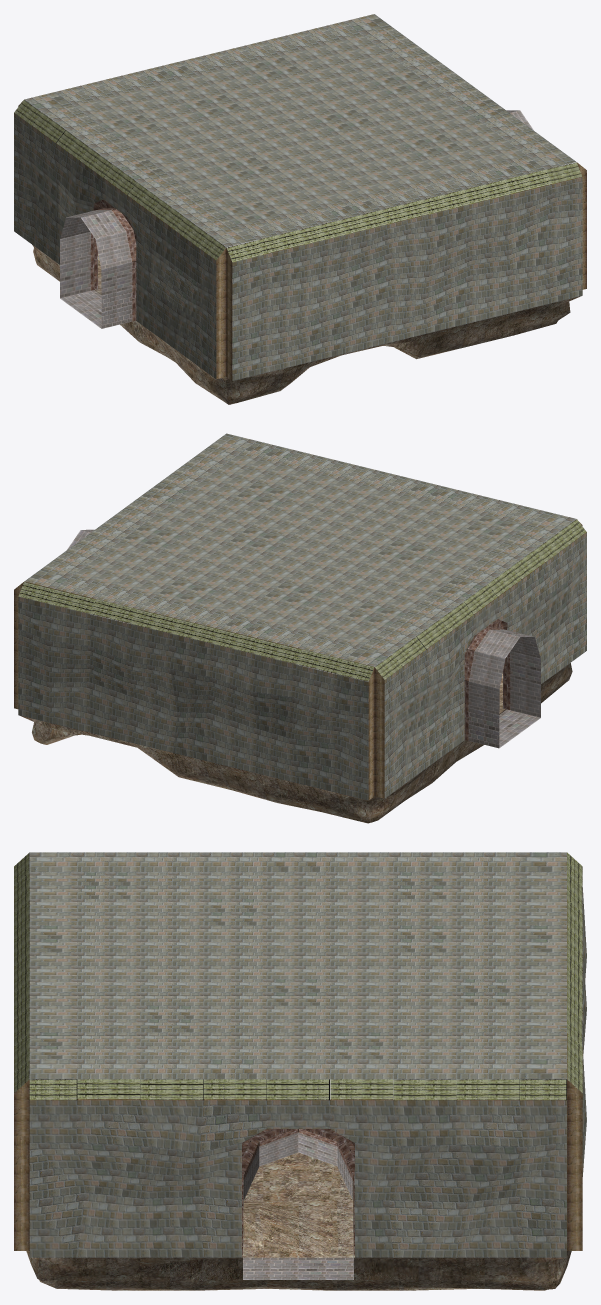
File: map50MEWL.fbx
3 views of the same model, one above another, from view 1: azimuth 30°, elevation 25°; view 2: azimuth 150°, elevation 25°; view 3: azimuth 270°, elevation 25° (orthographic). The views are drawn at different scales.
Parts seen in each view (by area): view 1: map50MEWL_Layer1_roof, map50MEWL_Layer1_far, map50MEWL_Layer1_right, map50MEWL_Layer2, map50MEWL_Layer1_floor3, map50MEWL_Layer3, map50MEWL_Layer6, map50MEWL_Layer5; view 2: map50MEWL_Layer1_roof, map50MEWL_Layer1_near, map50MEWL_Layer1_right, map50MEWL_Layer2, map50MEWL_Layer1_floor3, map50MEWL_Layer3, map50MEWL_Layer6, map50MEWL_Layer5; view 3: map50MEWL_Layer1_roof, map50MEWL_Layer1_right, map50MEWL_Layer1_floor3, map50MEWL_Layer2, map50MEWL_Layer6, map50MEWL_Layer3, map50MEWL_Layer5, map50MEWL_Layer1_near.
Part boxes in pixels (x1,y1,x2,y2): map50MEWL_Layer1_roof: (24,14,575,247); map50MEWL_Layer1_far: (232,177,582,380); map50MEWL_Layer1_right: (14,113,216,378); map50MEWL_Layer2: (14,99,582,262); map50MEWL_Layer1_floor3: (32,245,581,404); map50MEWL_Layer3: (60,110,533,328); map50MEWL_Layer6: (18,101,586,380); map50MEWL_Layer5: (90,199,136,321); map50MEWL_Layer1_roof: (24,433,575,666); map50MEWL_Layer1_near: (18,596,368,800); map50MEWL_Layer1_right: (384,532,586,798); map50MEWL_Layer2: (18,519,586,681); map50MEWL_Layer1_floor3: (19,663,572,823); map50MEWL_Layer3: (67,529,540,748); map50MEWL_Layer6: (14,519,582,799); map50MEWL_Layer5: (464,619,510,740); map50MEWL_Layer1_roof: (29,852,566,1079); map50MEWL_Layer1_right: (29,1100,566,1257); map50MEWL_Layer1_floor3: (26,1152,571,1290); map50MEWL_Layer2: (14,852,582,1100); map50MEWL_Layer6: (14,1079,582,1250); map50MEWL_Layer3: (243,1132,353,1279); map50MEWL_Layer5: (241,1129,354,1255); map50MEWL_Layer1_near: (582,887,586,1176).
Bounding box in the file's own units: 1 × 0.3616 × 0.85.
